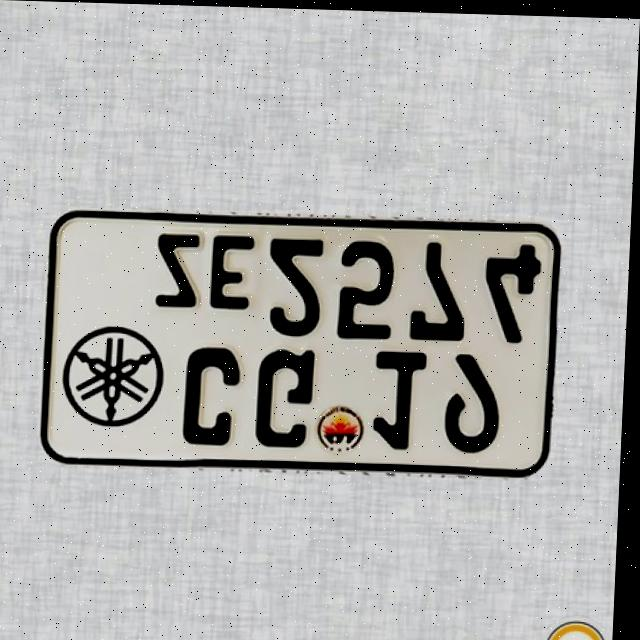plate: (39, 198, 572, 478)
